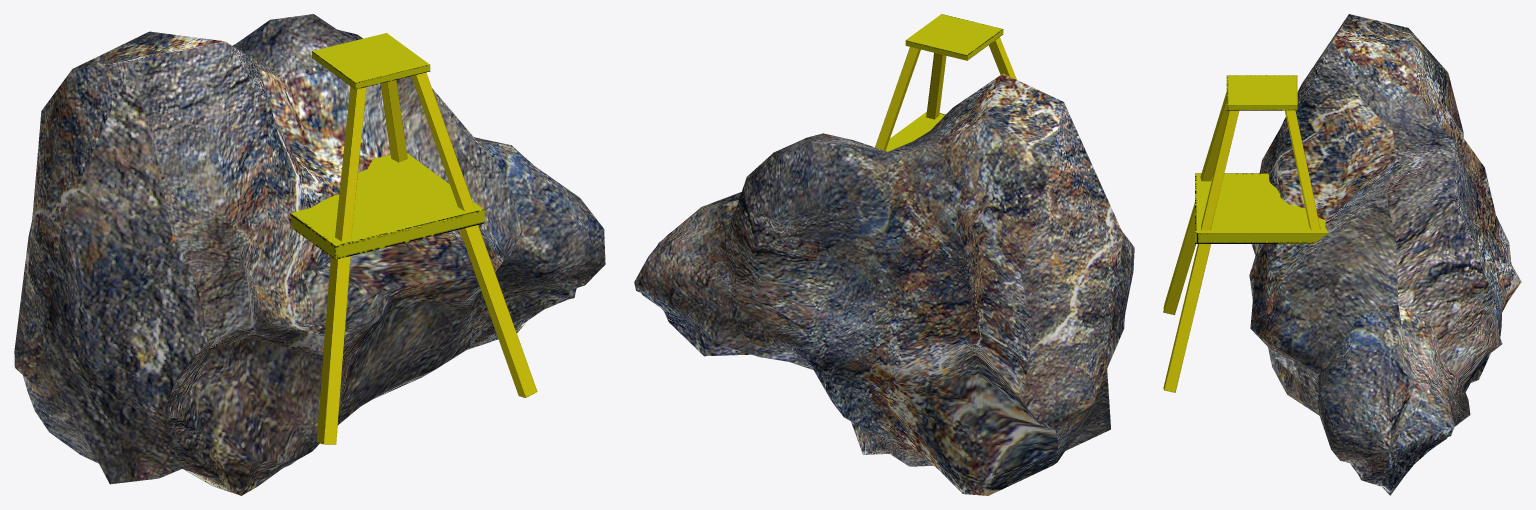
File: stone_mine_lod3.fbx
The picture shows the model from 3 angles, left to right: view 1: azimuth 30°, elevation 25°; view 2: azimuth 150°, elevation 25°; view 3: azimuth 270°, elevation 25°; orthographic projection. The views are drawn at different scales.
Parts seen in each view (by area): view 1: stone_mine_mesh; view 2: stone_mine_mesh; view 3: stone_mine_mesh.
Part boxes in pixels (left/top/right/bottom): stone_mine_mesh: left=14, top=14, right=605, bottom=495; stone_mine_mesh: left=634, top=14, right=1134, bottom=495; stone_mine_mesh: left=1163, top=14, right=1521, bottom=495.
Size of the model in its own units: 22.3 by 17.45 by 15.13.
